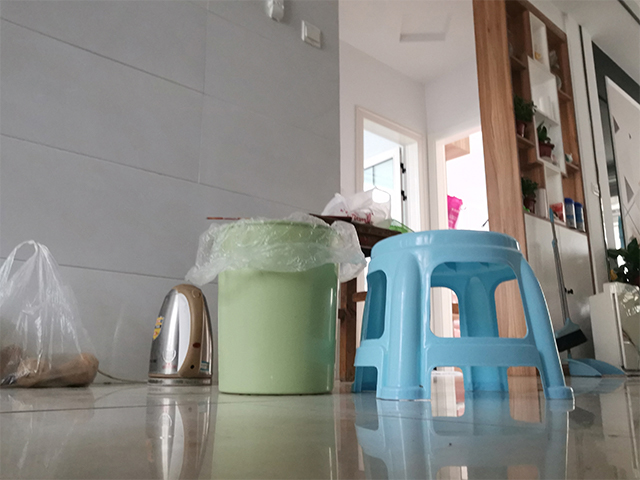stool: (348, 226, 577, 403)
trashcan: (210, 218, 343, 398)
